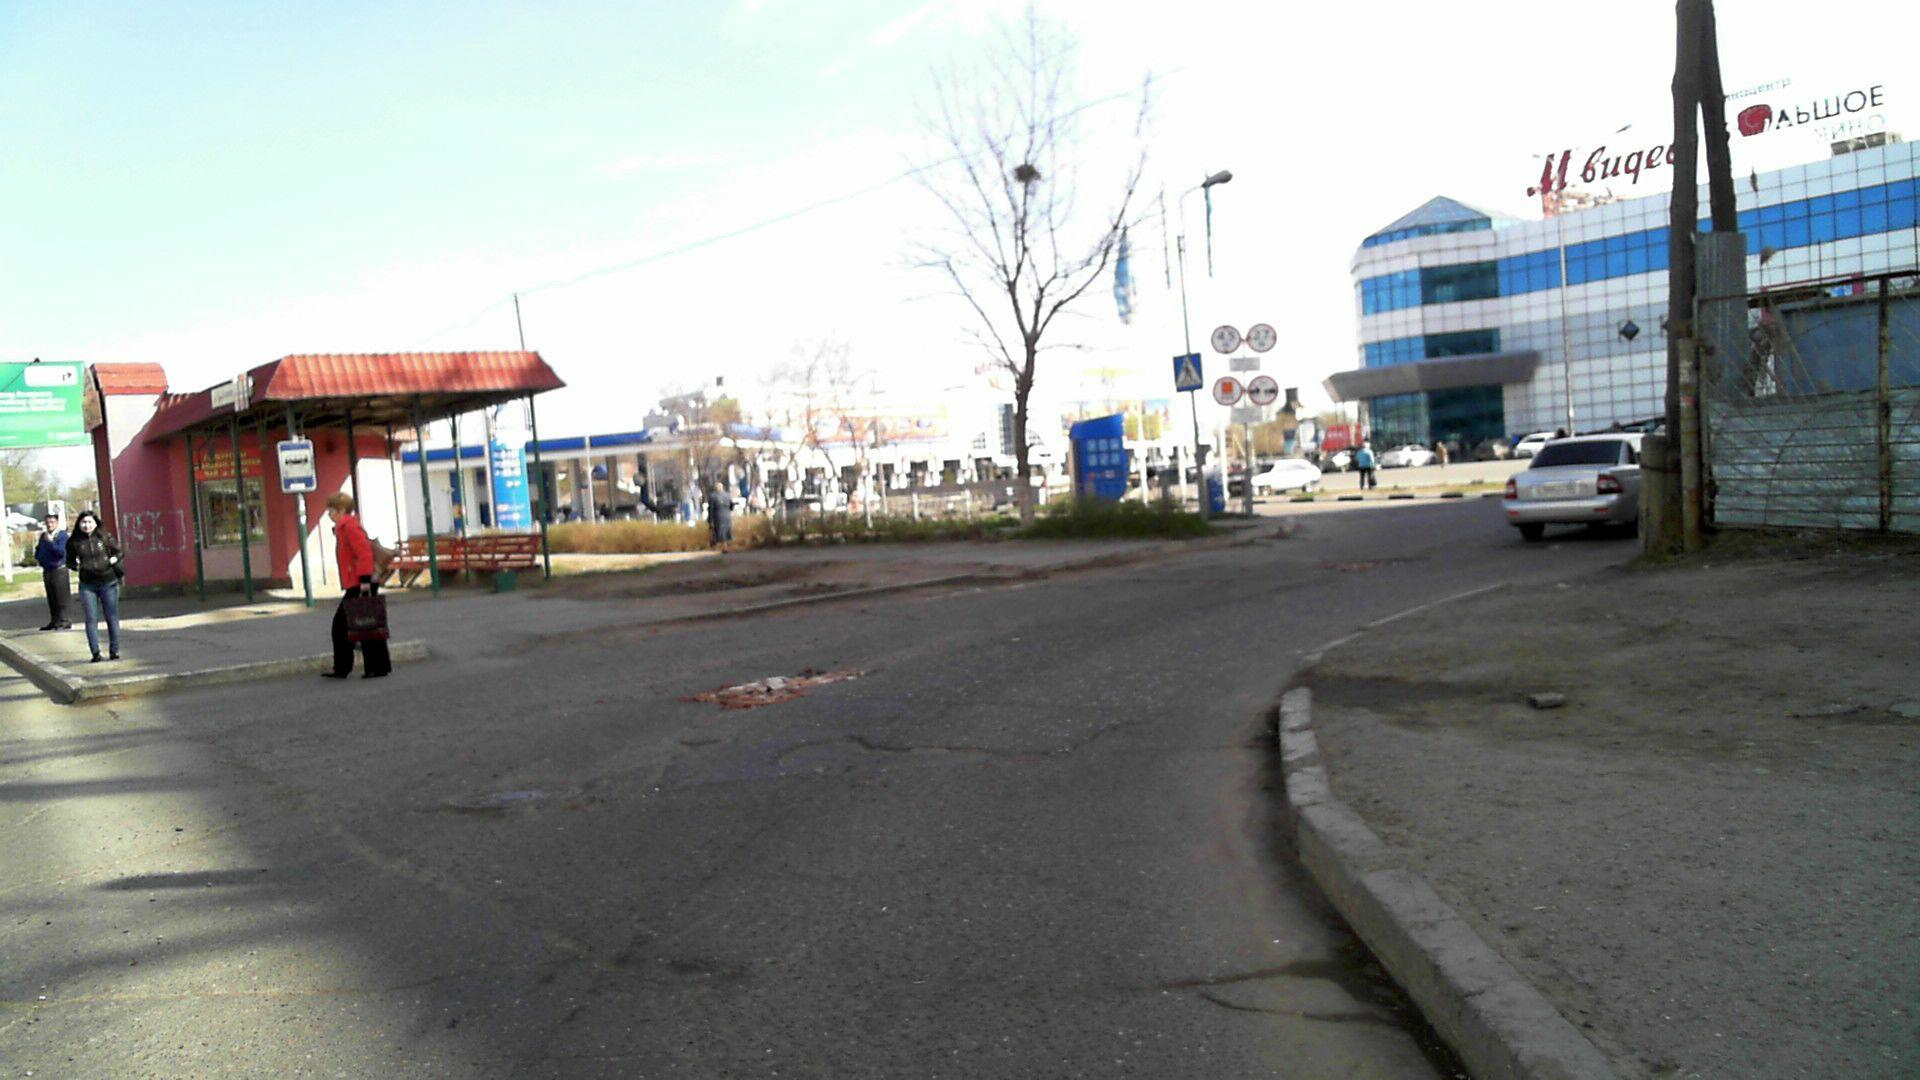3_13: (1209, 324, 1243, 354)
3_14: (1247, 323, 1278, 354)
3_16: (1248, 374, 1278, 406)
3_32: (1214, 375, 1243, 406)
5_16: (275, 436, 318, 492)
5_19_2: (1172, 351, 1206, 391)
